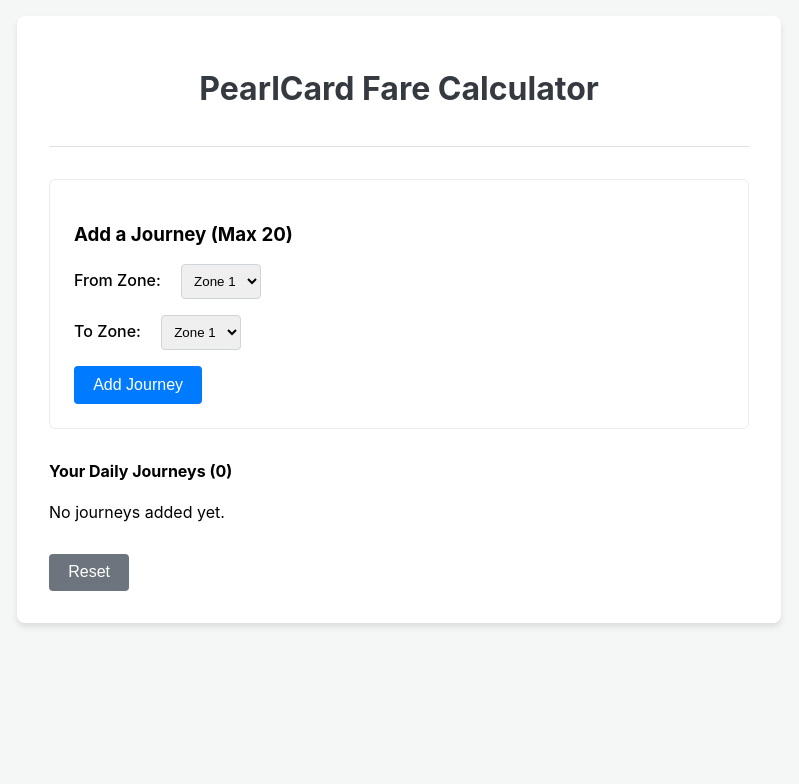
App Component › should clear all journeys when the reset button is clicked
The image size is (799, 784).
Select "Zone 1" in the dropdown labelled "From Zone:" at (221, 282), box [181,264,261,299]
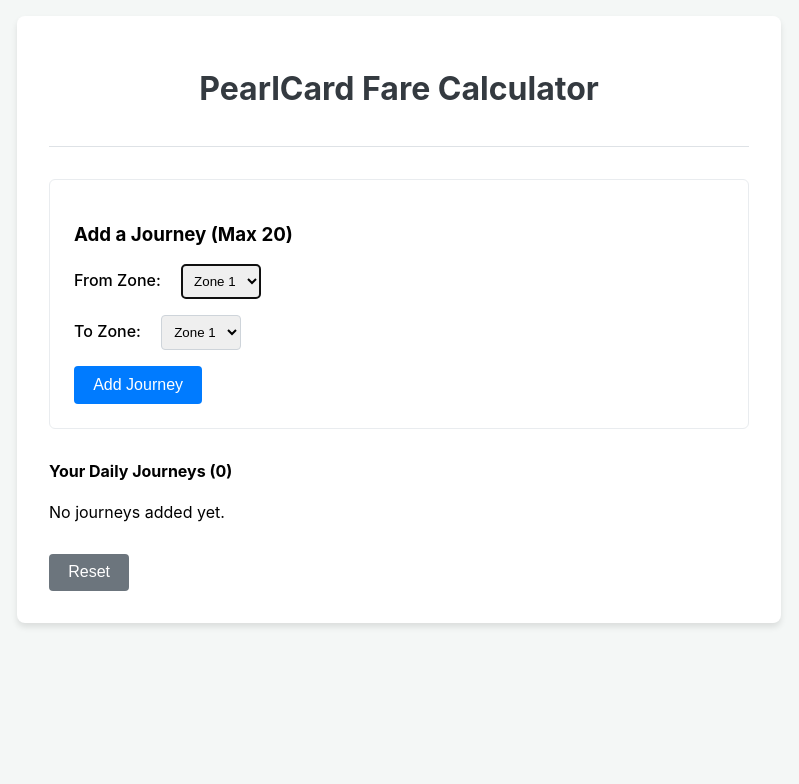
Click the button "Add Journey".
click(138, 385)  # box [74,366,202,404]
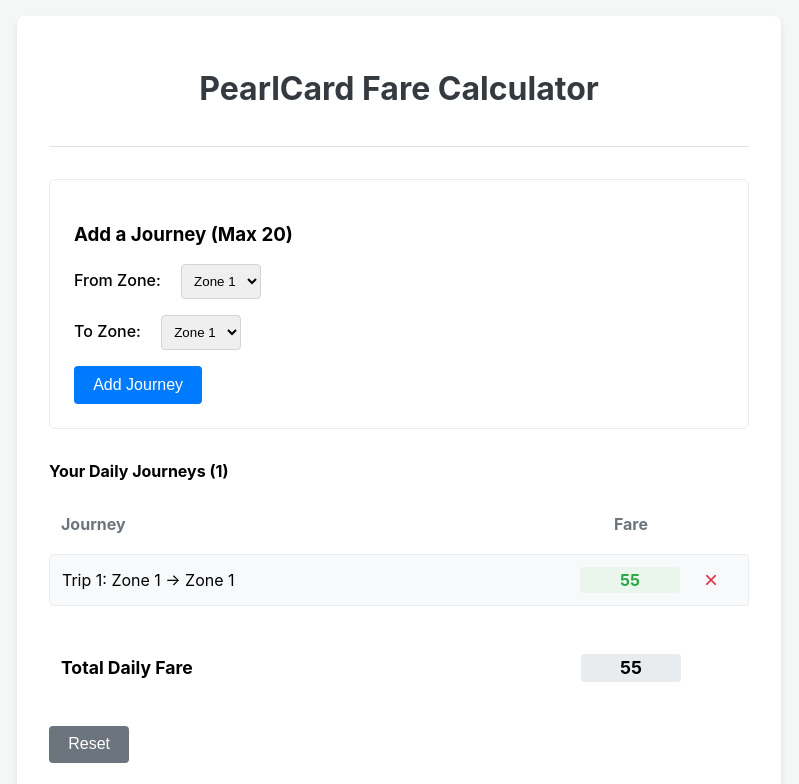
Expected: the text "Trip 1: Zone 1 → Zone 1" is shown, [62,570,234,590]
Click the button "Reset".
click(89, 744)  # box [49,726,129,763]
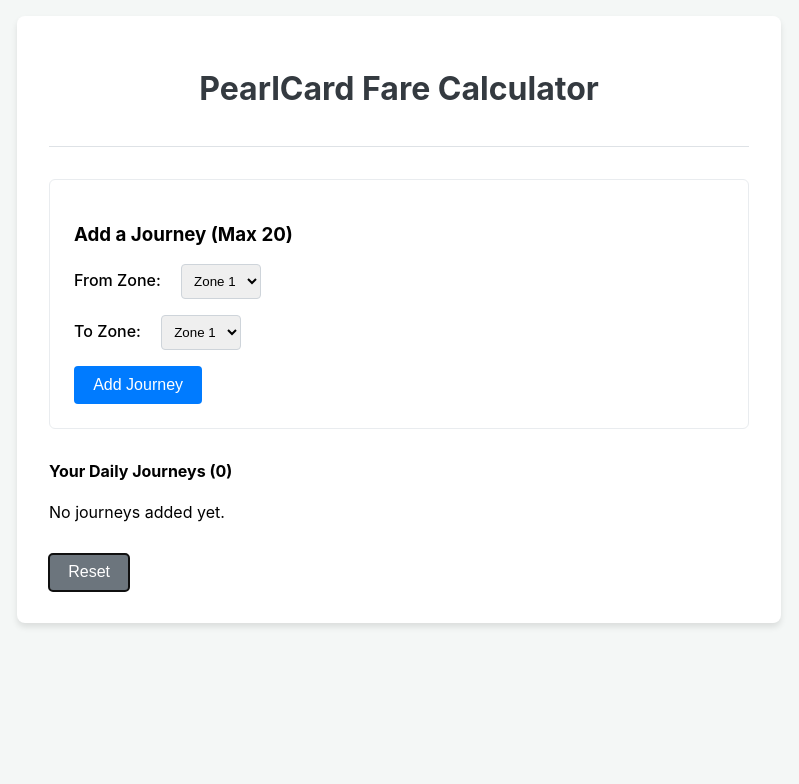
Expected: the text "Trip 1" is gone
